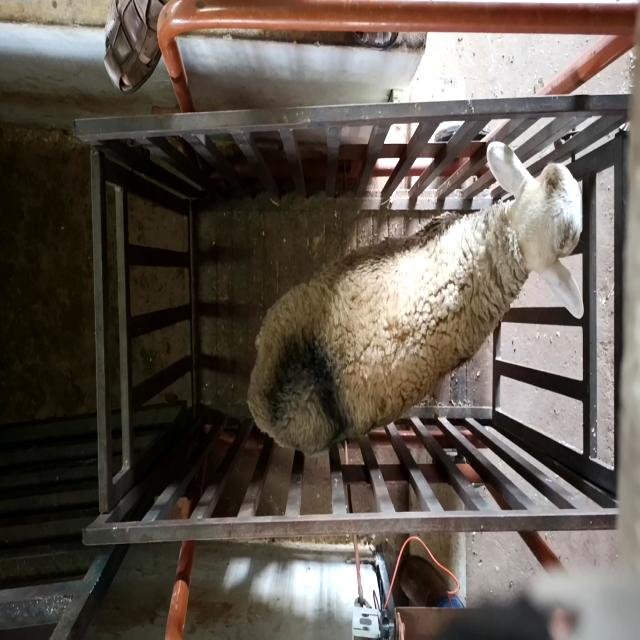sheep: (247, 141, 584, 456)
